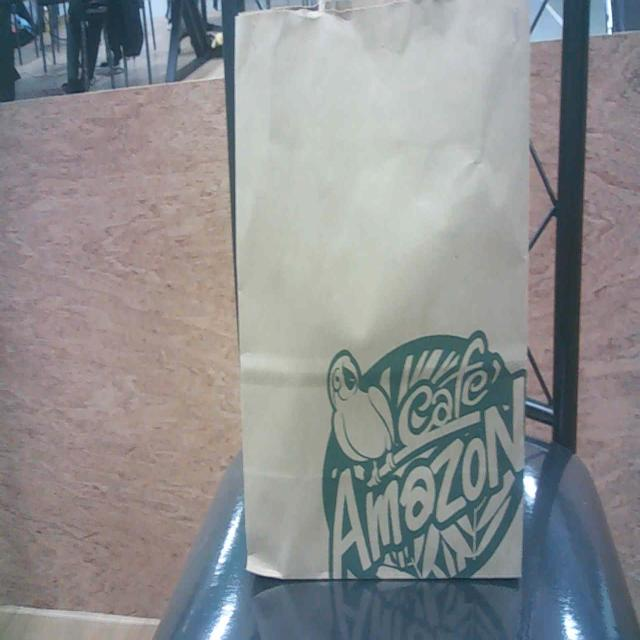bag: (239, 24, 522, 592)
